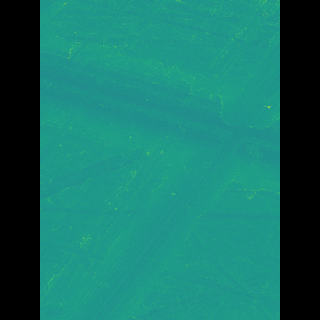Loch: (89, 34, 250, 320), (69, 0, 164, 170)
